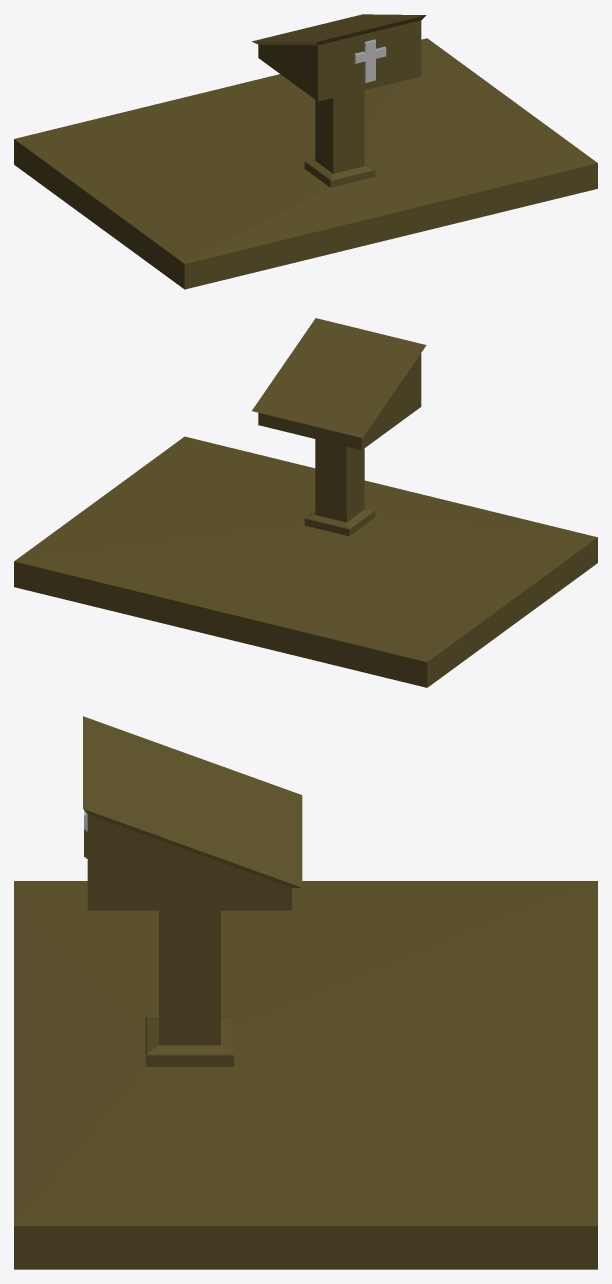
File: Church_Podium.glb
3 renders of one model, top to bottom at view 1: azimuth 30°, elevation 25°; view 2: azimuth 150°, elevation 25°; view 3: azimuth 270°, elevation 25°, orthographic. The views are drawn at different scales.
Visible parts, largest first — view 1: Cube; view 2: Cube; view 3: Cube.
Boxes of the visible parts, left/top/right/bottom form: Cube: left=14, top=14, right=597, bottom=289; Cube: left=14, top=318, right=597, bottom=687; Cube: left=14, top=716, right=597, bottom=1269.
Size of the model in its own units: 15.97 by 7.23 by 11.43.
